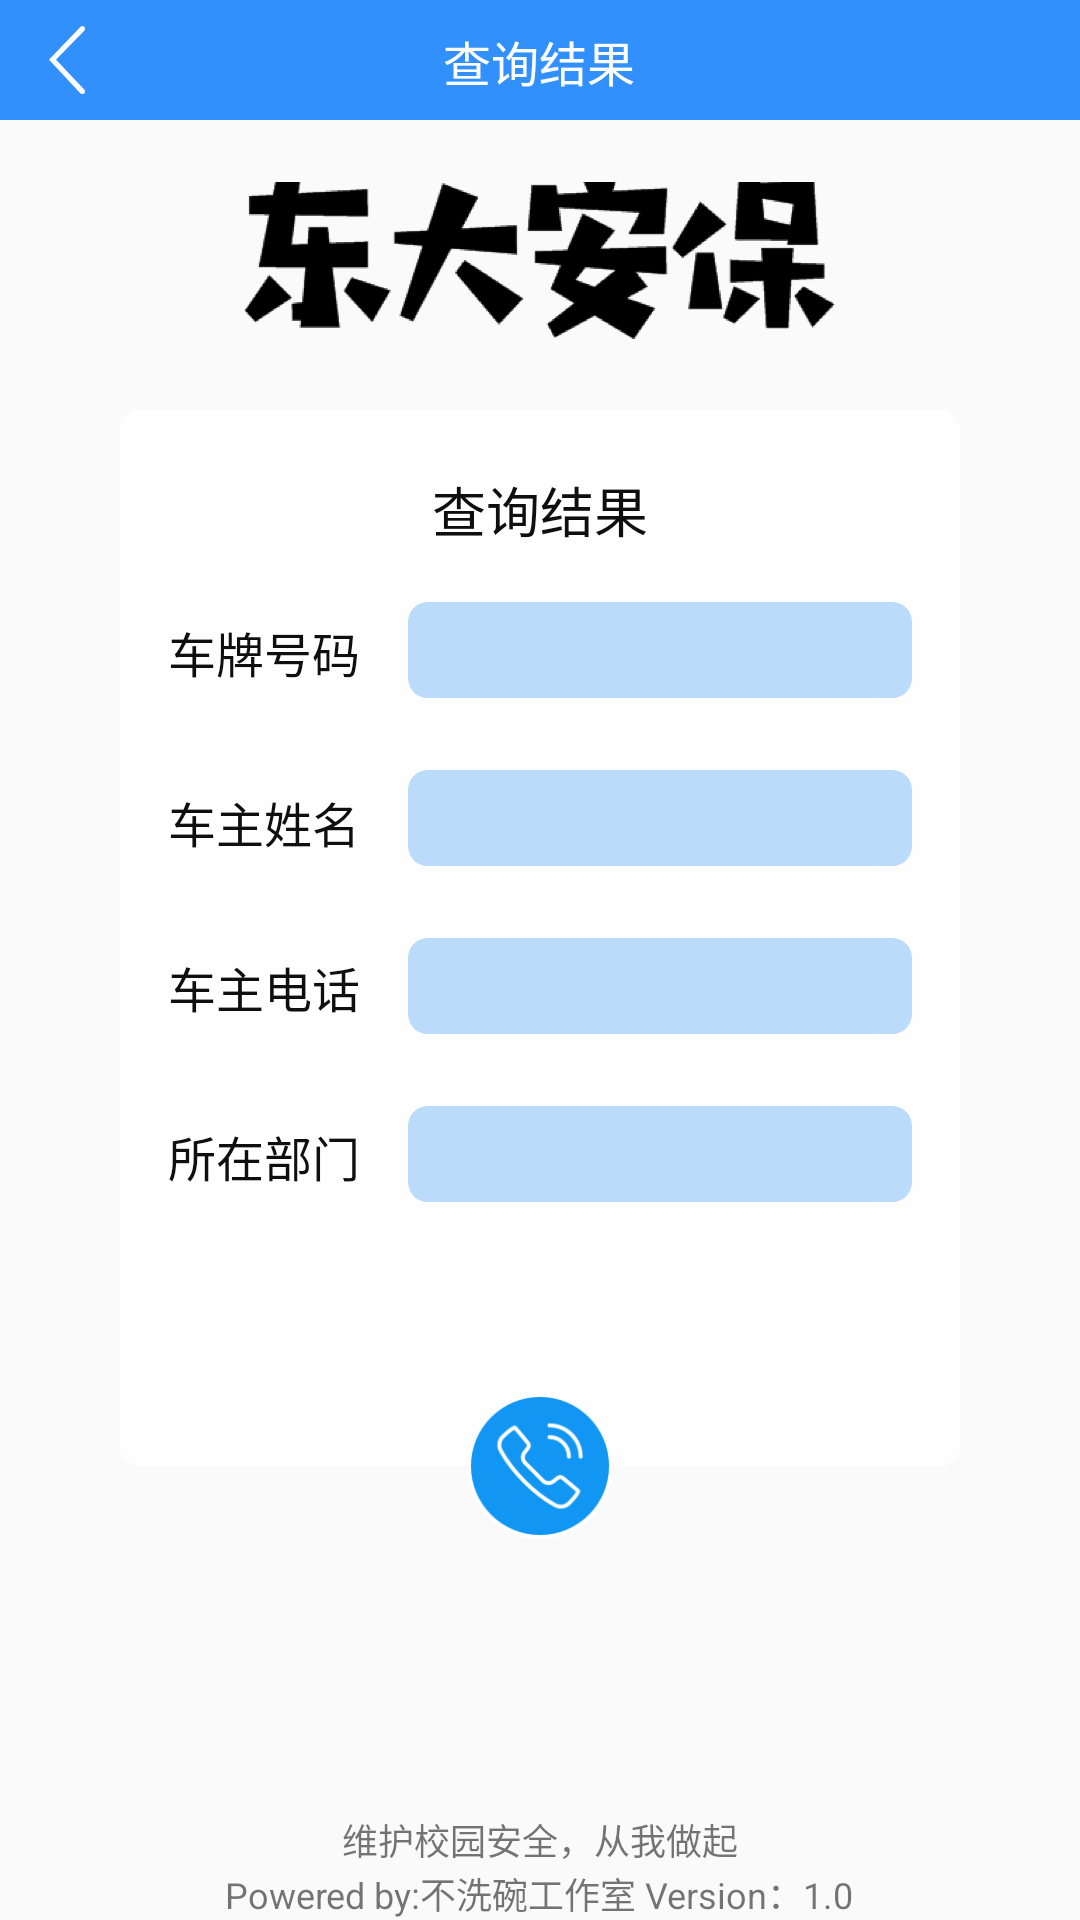

Icon click points for this 1080×1920 phone screenshot, format [x,y]:
back: [67,60]
phone ringing: [540,1466]
